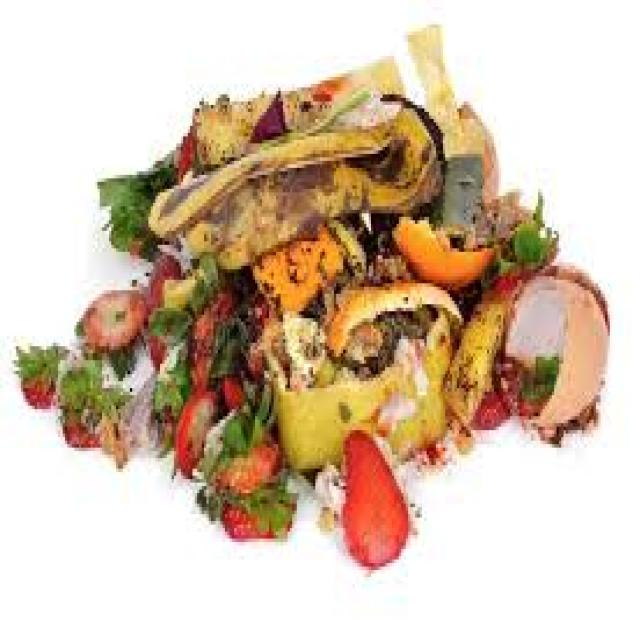Organik: (0, 1, 640, 590), (135, 115, 511, 288)
